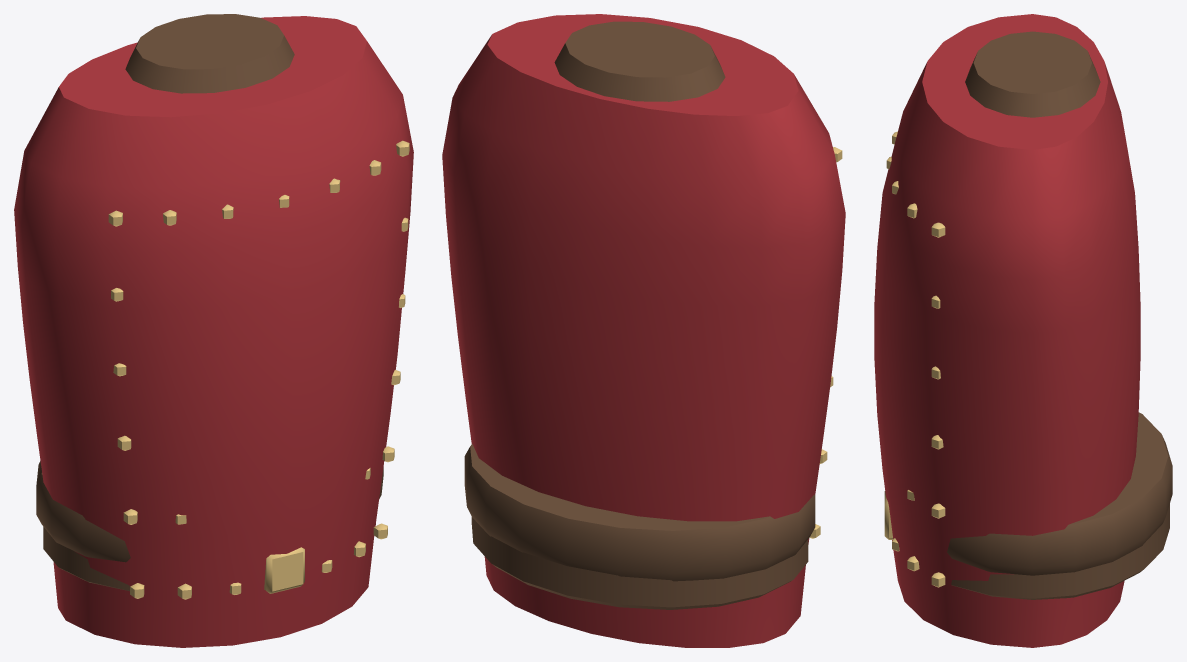
File: brigandine.glb
The picture shows the model from 3 angles, left to right: view 1: azimuth 30°, elevation 25°; view 2: azimuth 150°, elevation 25°; view 3: azimuth 270°, elevation 25°; orthographic projection. The views are drawn at different scales.
Parts seen in each view (by area): view 1: brigandine; view 2: brigandine; view 3: brigandine.
Part boxes in pixels (x1,y1,x2,y2): brigandine: (14,14,413,647); brigandine: (442,14,845,647); brigandine: (874,14,1172,647).
Size of the model in its own units: 0.3922 by 0.54 by 0.2817.
